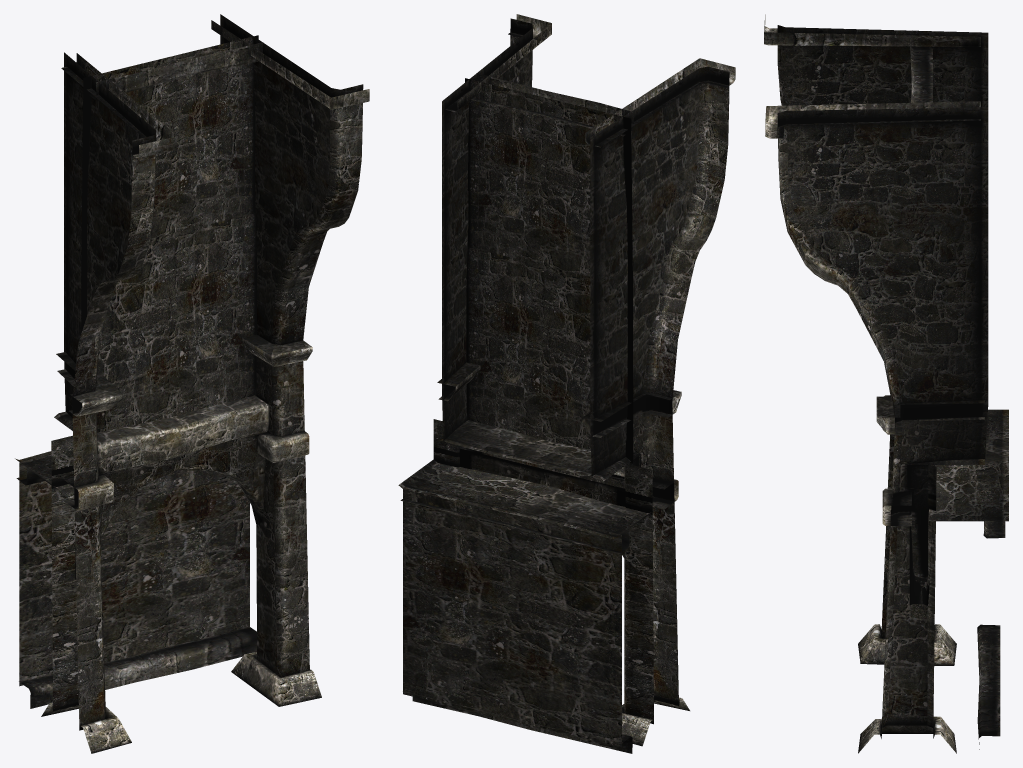
File: church_window_no_window.dae
3 views of the same model, side by side, from view 1: azimuth 30°, elevation 25°; view 2: azimuth 150°, elevation 25°; view 3: azimuth 270°, elevation 25° (orthographic). The views are drawn at different scales.
Parts seen in each view (by area): view 1: polySurface143; view 2: polySurface143; view 3: polySurface143.
Boxes of the visible parts, x1=… form: polySurface143: x1=15, y1=14, x2=369, y2=753; polySurface143: x1=398, y1=14, x2=735, y2=753; polySurface143: x1=764, y1=14, x2=1008, y2=753.
Size of the model in its own units: 4.5 by 12 by 4.23.
